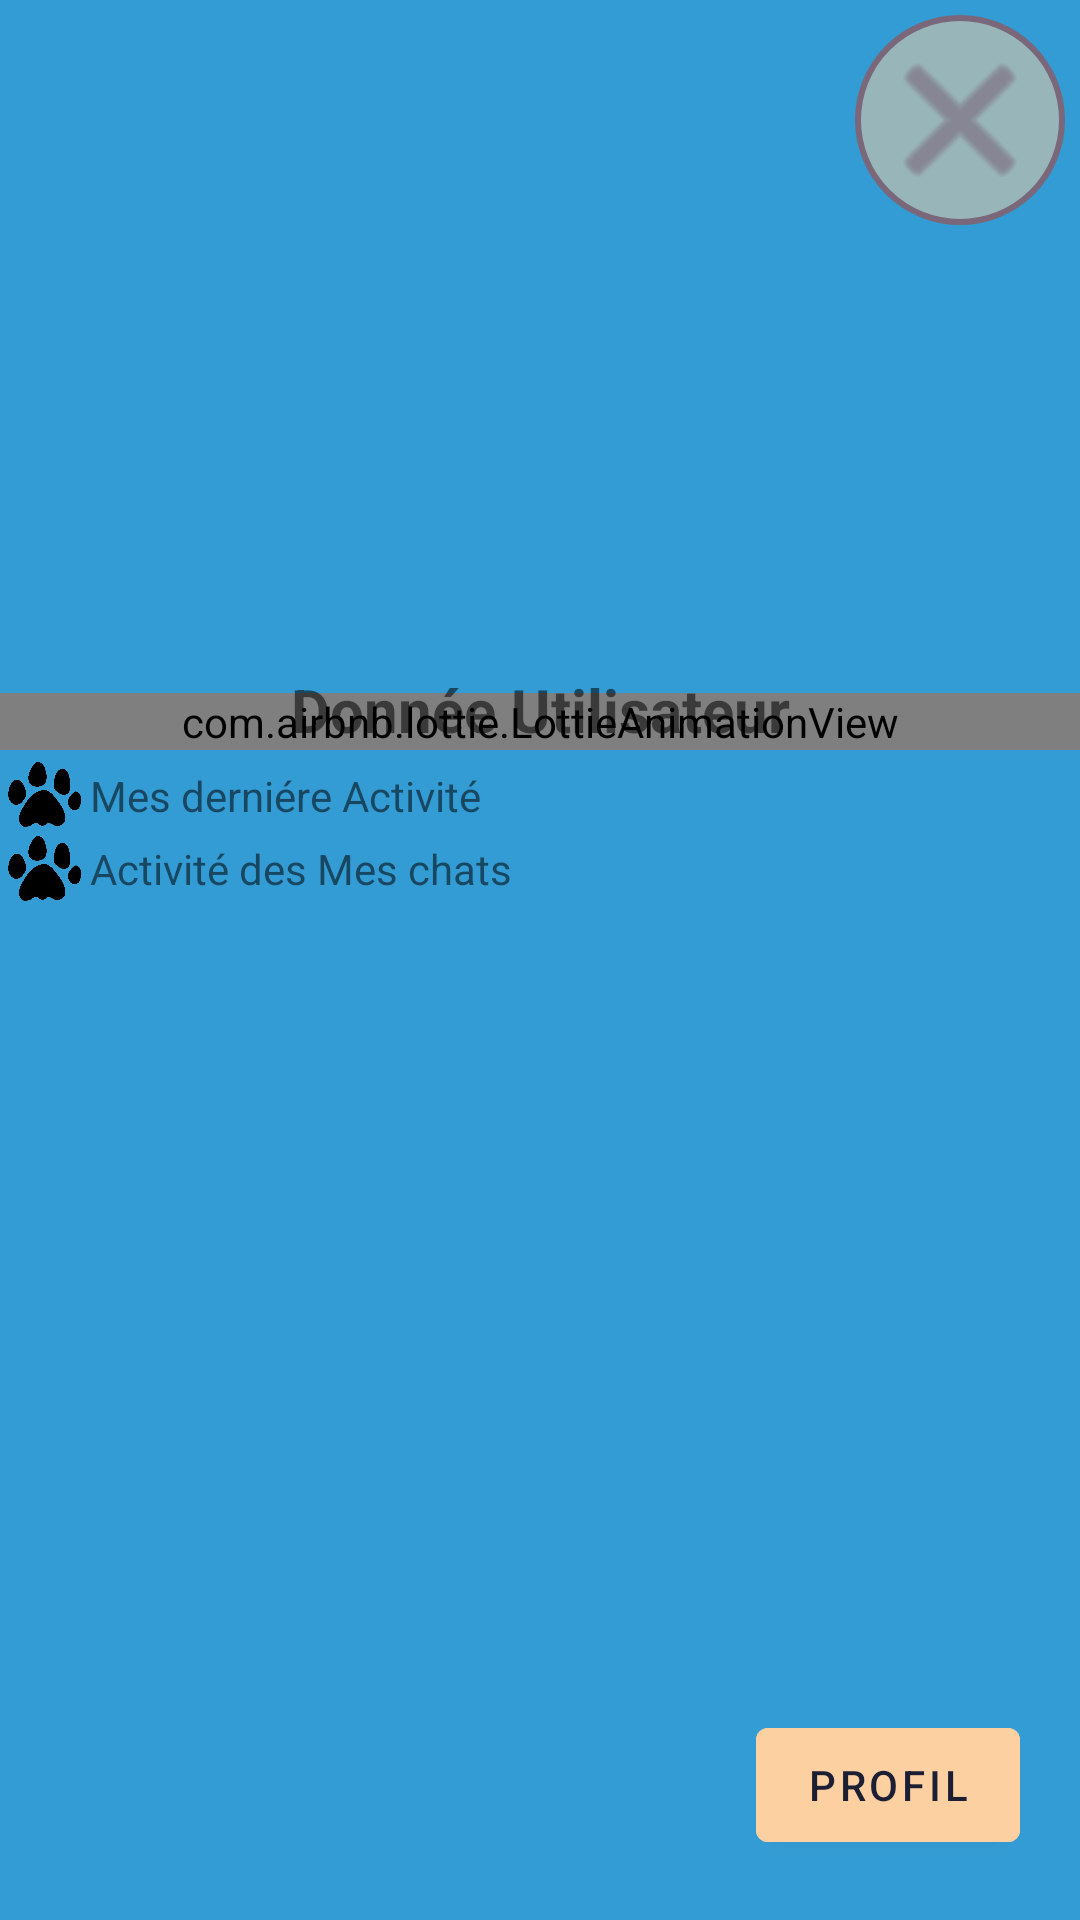

Where to tap for icons on this 1080 x 1920 app screen, as (x,y):
close clear cancel: (960,120)
patte: (44,794), (44,868)
